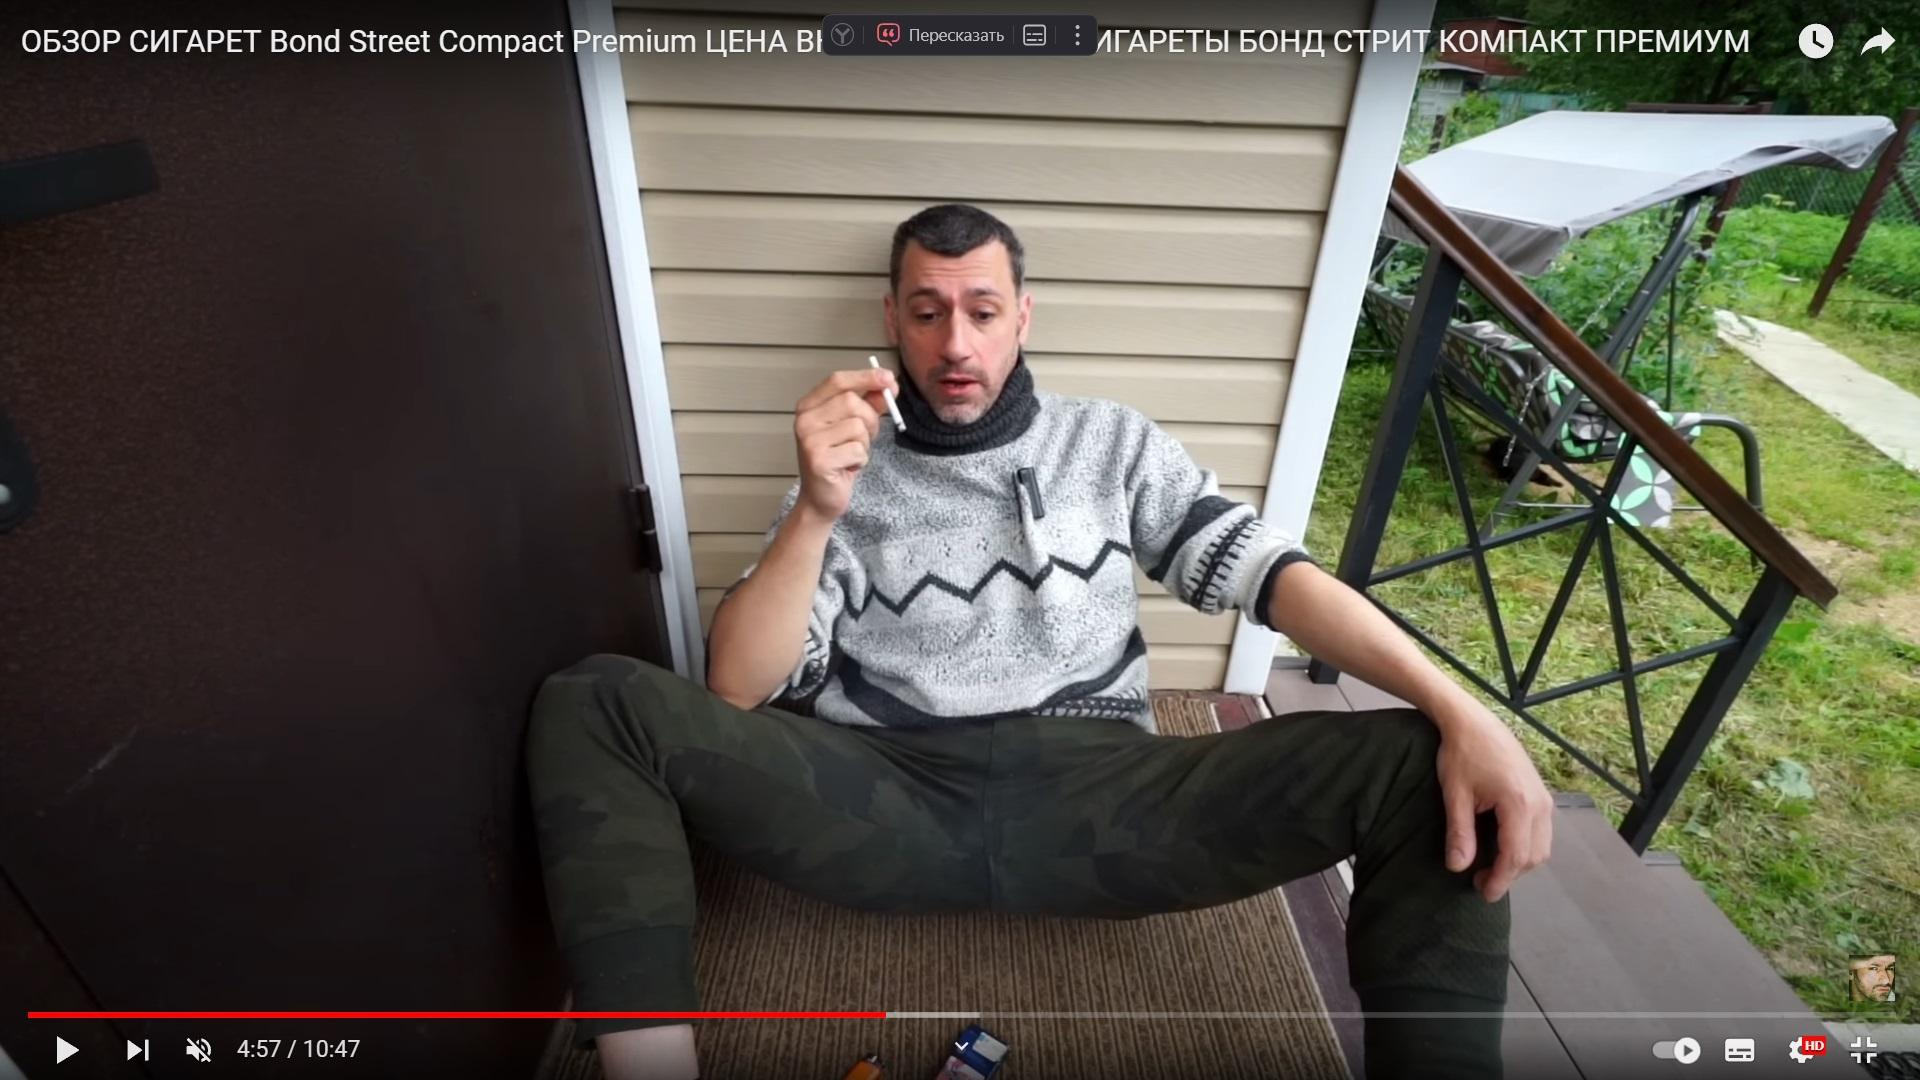cigarette: (869, 356, 906, 431)
